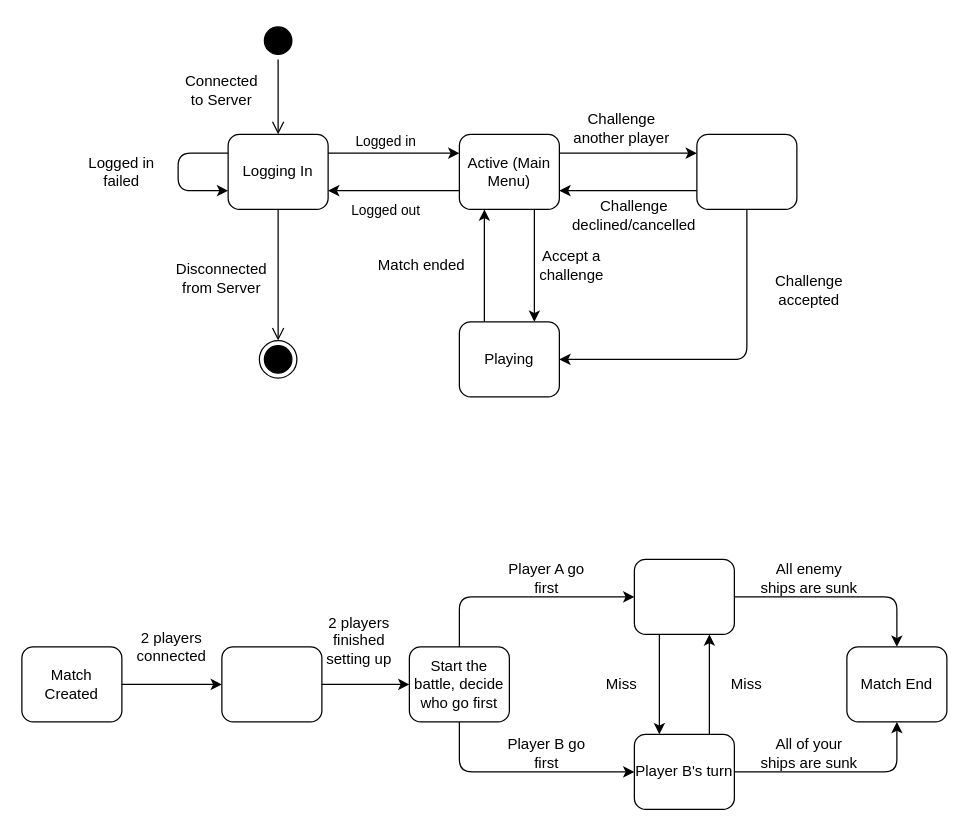
Image size: 969x831. Some labels were removed from this diagram. Here are the shapes that lost their labels. From the top down, the centre of each, then its label:
At [746,171]: "Pending".
At [683,596]: "Player A's turn".
At [271,684]: "Board Set Up".
